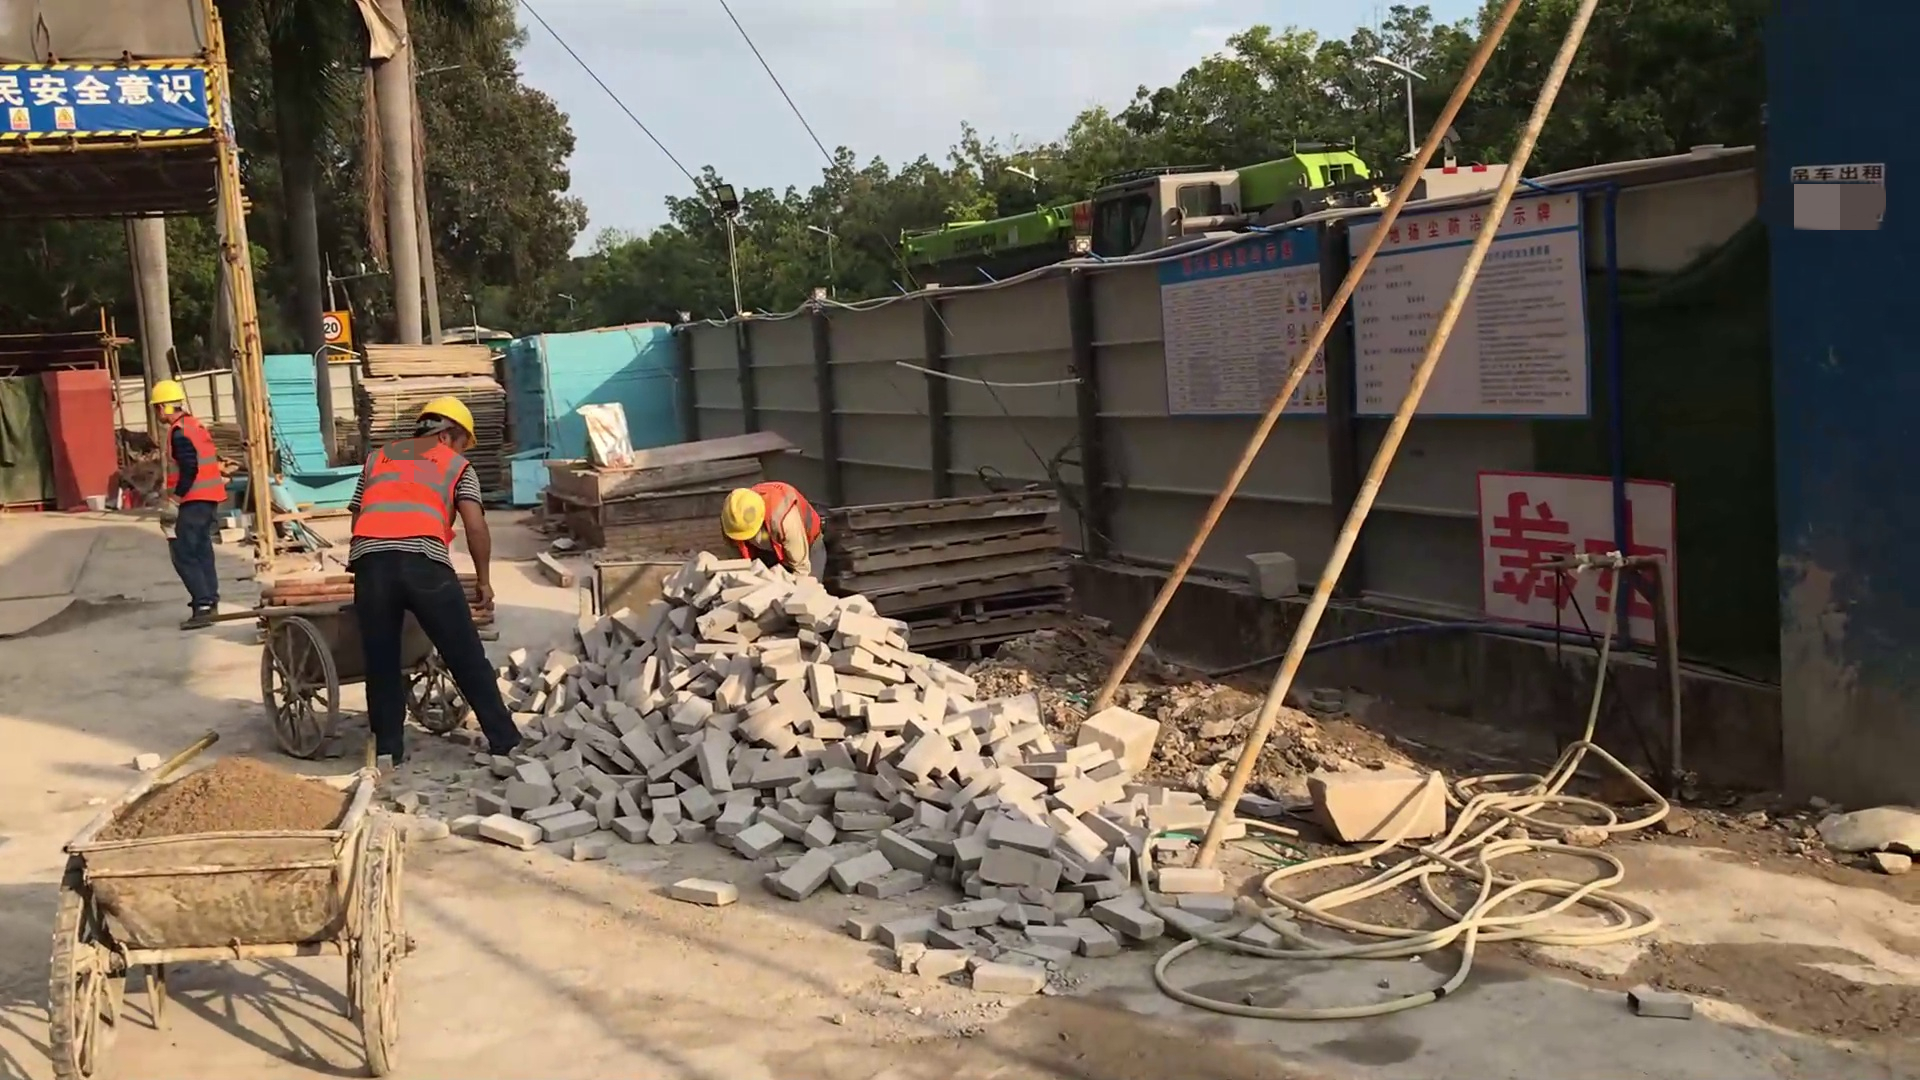board: (355, 337, 509, 491)
handcart: (44, 728, 417, 1080), (183, 595, 491, 762), (572, 554, 687, 617)
helmet: (412, 392, 480, 448), (720, 483, 767, 545), (147, 378, 185, 415)
person: (343, 391, 525, 777), (147, 377, 229, 632), (720, 478, 828, 584)
slogan: (1345, 187, 1588, 423), (1480, 469, 1673, 652), (1154, 227, 1326, 417), (1, 64, 218, 140), (317, 309, 354, 363)
vest: (346, 433, 471, 548), (160, 416, 224, 505), (753, 478, 822, 559)
